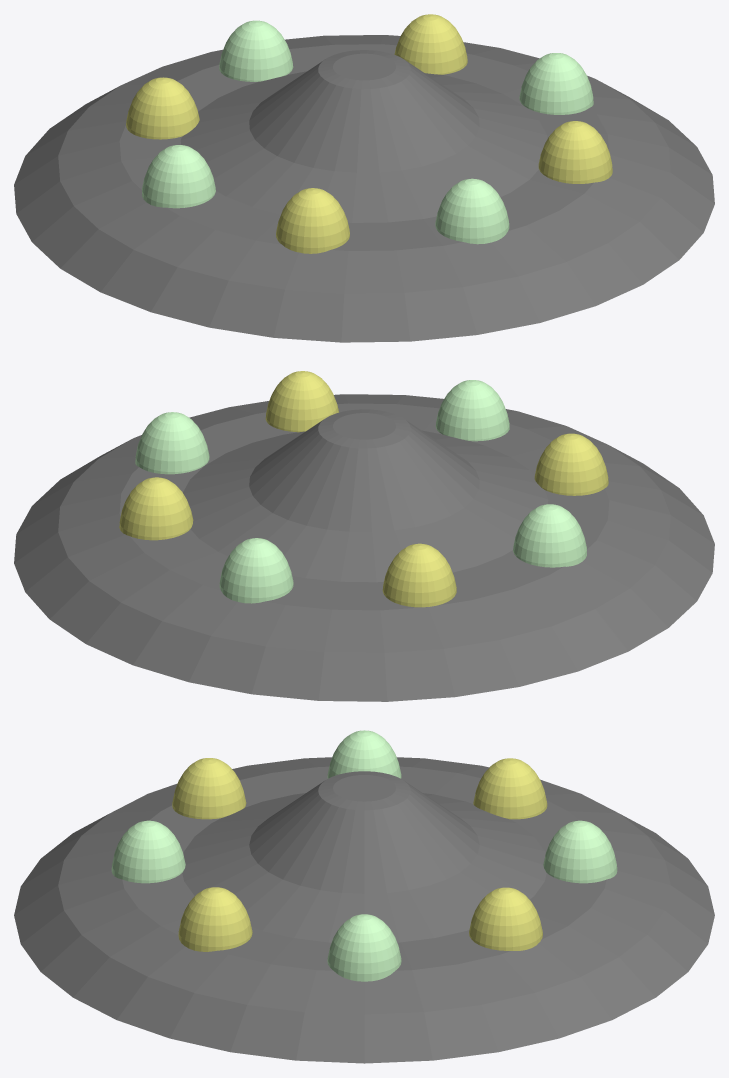
Rendered from UFO.fbx.
The picture shows the model from 3 angles, top to bottom: view 1: azimuth 30°, elevation 25°; view 2: azimuth 150°, elevation 25°; view 3: azimuth 270°, elevation 25°; orthographic projection.
Parts seen in each view (by area): view 1: Sphere.004; view 2: Sphere.004; view 3: Sphere.004.
Boxes of the visible parts, box(x1,y1,x2,y2) form: Sphere.004: box(14, 14, 714, 342); Sphere.004: box(14, 371, 714, 701); Sphere.004: box(14, 730, 714, 1063).
Bounding box in the file's own units: 1021 × 224 × 1021.
